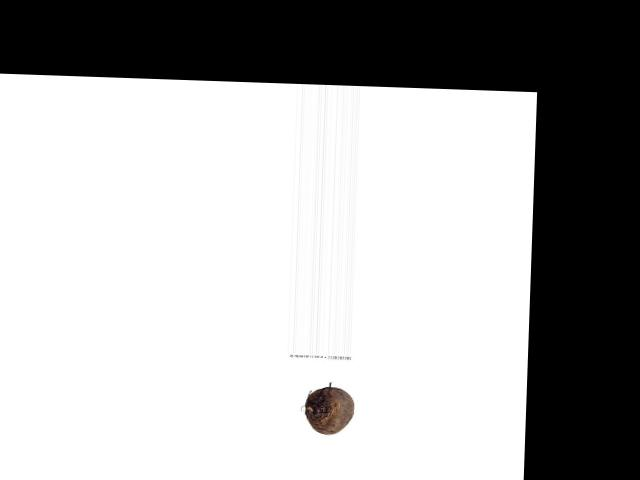beet: (305, 386, 356, 434)
